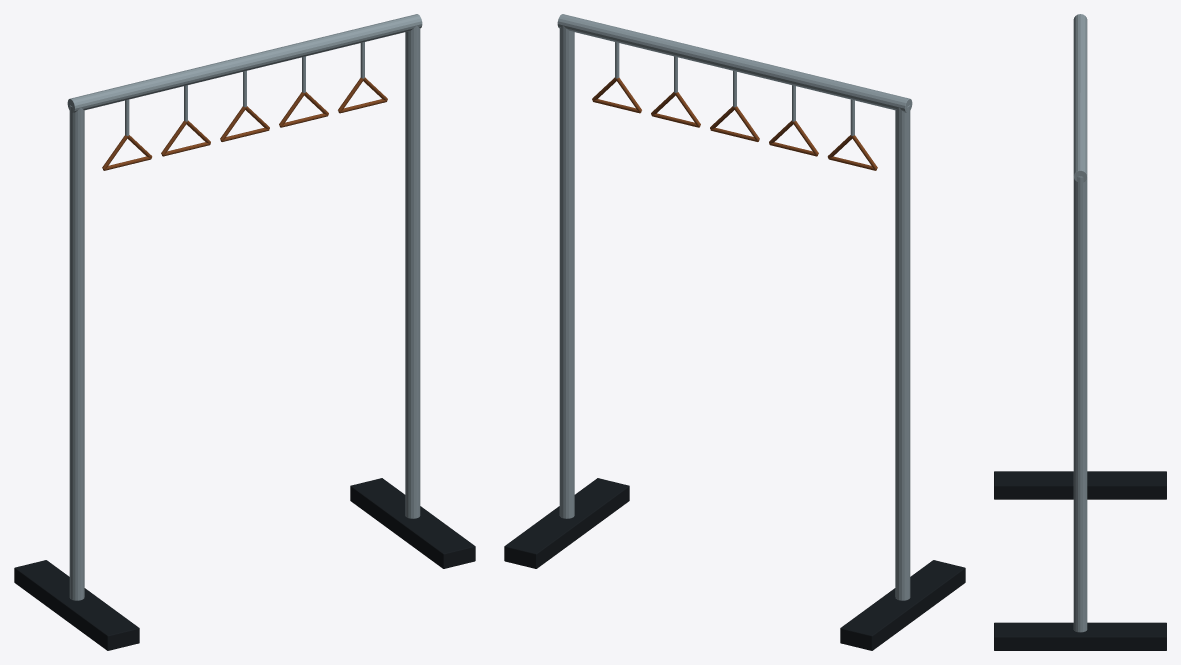
The picture shows the model from 3 angles, left to right: view 1: azimuth 30°, elevation 25°; view 2: azimuth 150°, elevation 25°; view 3: azimuth 270°, elevation 25°; orthographic projection. The views are drawn at different scales.
Visible parts, largest first — view 1: UPRIGHT, UPRIGHT.001, HANGING_Rail, BASE_Foot, BASE_Foot.001; view 2: UPRIGHT, UPRIGHT.001, HANGING_Rail, BASE_Foot, BASE_Foot.001; view 3: UPRIGHT.001, BASE_Foot, BASE_Foot.001, HANGING_Rail.
Part boxes in pixels (x1,y1,x2,y2): UPRIGHT: [69, 105, 84, 600]; UPRIGHT.001: [405, 25, 420, 518]; HANGING_Rail: [67, 14, 422, 112]; BASE_Foot: [350, 478, 475, 568]; BASE_Foot.001: [14, 560, 139, 650]; UPRIGHT: [895, 105, 910, 600]; UPRIGHT.001: [559, 25, 574, 518]; HANGING_Rail: [557, 14, 912, 112]; BASE_Foot: [504, 478, 629, 568]; BASE_Foot.001: [840, 560, 965, 650]; UPRIGHT.001: [1073, 176, 1087, 632]; BASE_Foot: [994, 622, 1166, 650]; BASE_Foot.001: [994, 471, 1166, 499]; HANGING_Rail: [1073, 14, 1087, 181].
Size of the model in its own units: 1.25 by 1.67 by 0.55.
